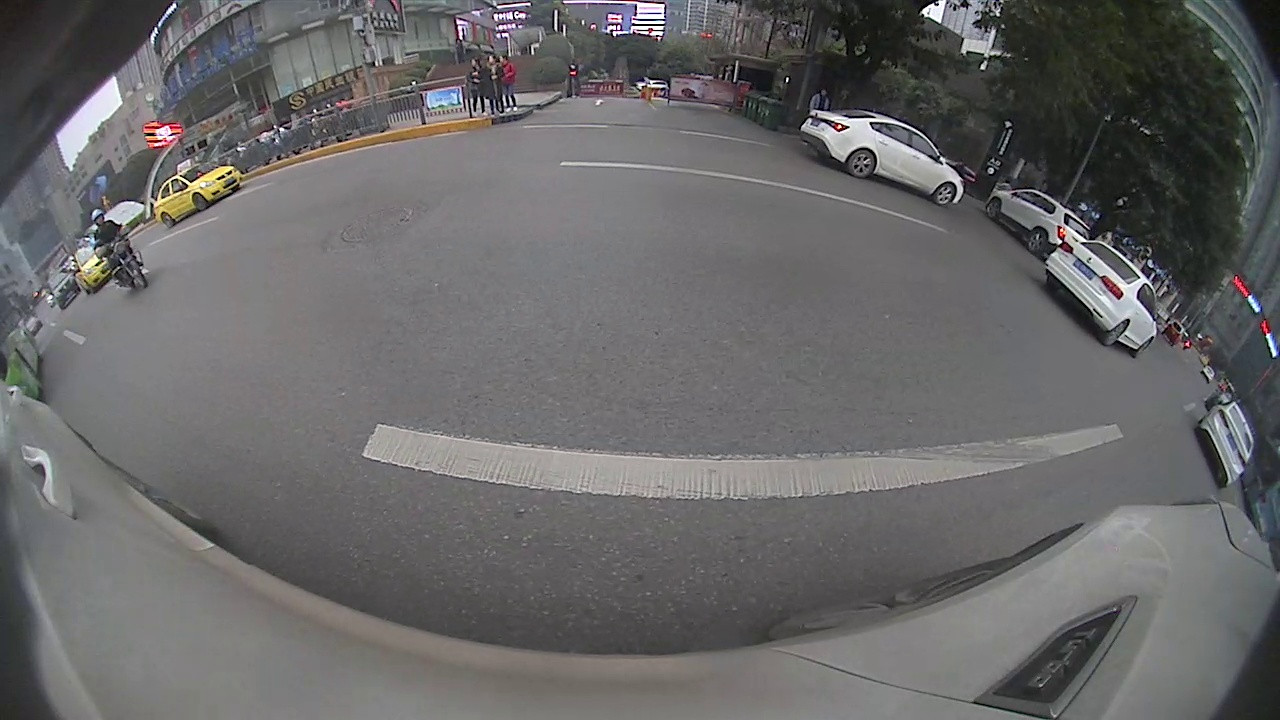car: (797, 106, 969, 208), (1041, 238, 1157, 360), (983, 188, 1094, 261), (151, 156, 244, 230), (1194, 400, 1257, 490)
front: (931, 183, 958, 206), (982, 196, 1003, 220), (191, 193, 209, 213)
person: (488, 55, 502, 114)
rear: (1022, 224, 1049, 258), (849, 149, 877, 180), (1104, 322, 1129, 347), (160, 212, 176, 230)
rider: (89, 206, 150, 290)
